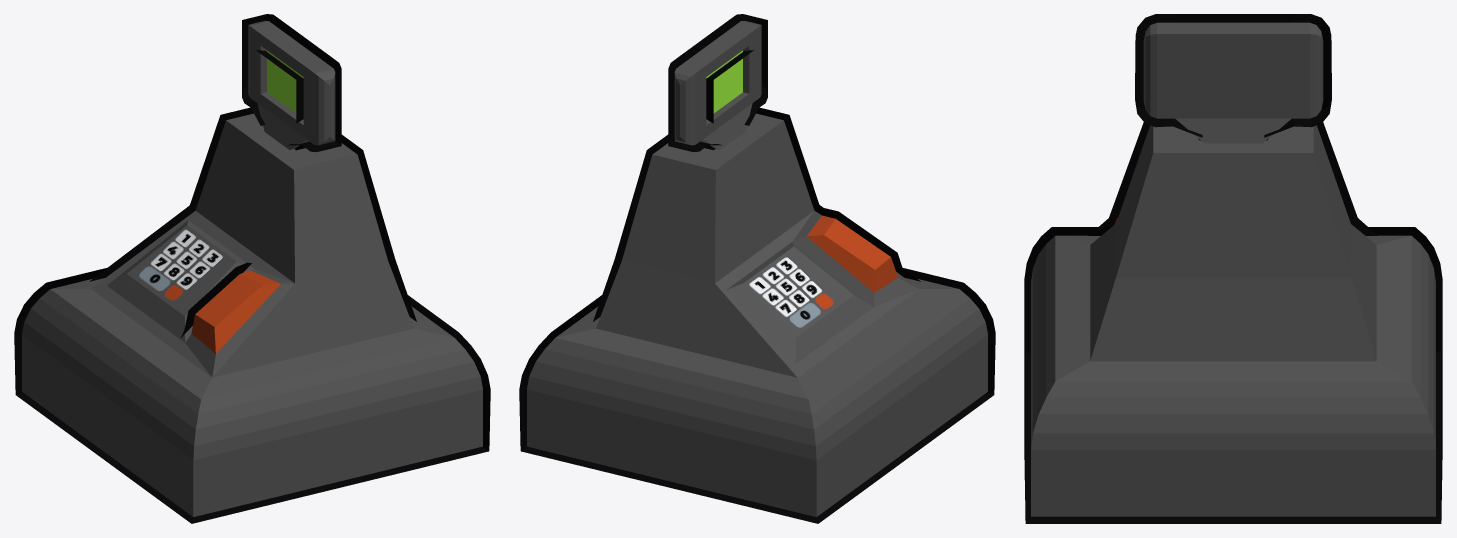
The model's file is CaixaRegistradora.fbx.
3 views of the same model, side by side, from view 1: azimuth 30°, elevation 25°; view 2: azimuth 150°, elevation 25°; view 3: azimuth 270°, elevation 25° (orthographic). The views are drawn at different scales.
Visible parts, largest first — view 1: caixa registradora, backface registrdora; view 2: caixa registradora, backface registrdora; view 3: caixa registradora, backface registrdora.
Part boxes in pixels (x1,y1,x2,y2): caixa registradora: (22, 21, 482, 516); backface registrdora: (14, 14, 490, 523); caixa registradora: (527, 21, 987, 516); backface registrdora: (519, 14, 995, 523); caixa registradora: (1031, 22, 1435, 516); backface registrdora: (1024, 14, 1442, 523).
Size of the model in its own units: 0.6545 by 0.6707 by 0.7759.
Materials: 3 (2 with a texture image).
